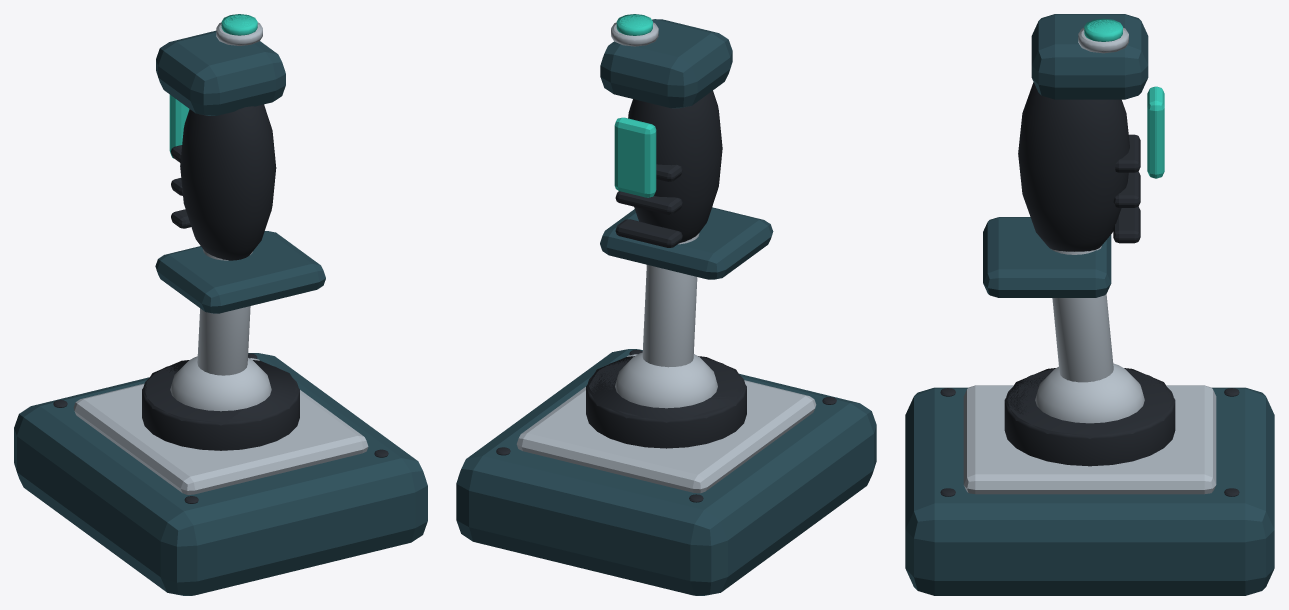
The model's file is stick-flight.glb.
3 views of the same model, side by side, from view 1: azimuth 30°, elevation 25°; view 2: azimuth 150°, elevation 25°; view 3: azimuth 270°, elevation 25° (orthographic). The views are drawn at different scales.
Parts seen in each view (by area): view 1: pedestal, gimbal_plate, grip_core, palm_rest, thumb_head, gimbal_collar, joint, stem, gimbal_collar.001, trigger; view 2: pedestal, gimbal_plate, thumb_head, grip_core, gimbal_collar, palm_rest, stem, joint, trigger, gimbal_collar.001, finger_ridge, finger_ridge.001; view 3: pedestal, gimbal_plate, grip_core, gimbal_collar, thumb_head, palm_rest, stem, joint, trigger, gimbal_collar.001, finger_ridge, finger_ridge.001 (+2 smaller).
Boxes of the visible parts, x1,y1,x2,y2 form: pedestal: (14,353,427,595); gimbal_plate: (73,358,368,494); grip_core: (180,104,276,260); palm_rest: (155,231,325,313); thumb_head: (156,30,285,115); gimbal_collar: (142,364,299,450); joint: (170,356,271,411); stem: (197,249,252,375); gimbal_collar.001: (142,360,299,425); trigger: (169,94,189,158); pedestal: (456,349,876,595); gimbal_plate: (516,354,816,493); thumb_head: (600,19,732,108); grip_core: (628,90,722,243); gimbal_collar: (586,357,746,448); palm_rest: (600,207,773,279); stem: (642,233,699,367); joint: (615,352,717,408); trigger: (614,117,656,197); gimbal_collar.001: (586,356,746,422); finger_ridge: (615,219,682,247); finger_ridge.001: (615,191,682,214); pedestal: (905,387,1274,595); gimbal_plate: (963,385,1216,494); grip_core: (1018,82,1129,251); gimbal_collar: (1004,369,1175,466); thumb_head: (1031,14,1148,99); palm_rest: (983,217,1111,297); stem: (1050,246,1113,382); joint: (1035,363,1144,423); trigger: (1147,86,1164,178); gimbal_collar.001: (1004,368,1175,438); finger_ridge: (1113,207,1140,243); finger_ridge.001: (1113,171,1140,207).
Size of the model in its own units: 0.17 by 0.2975 by 0.19.
